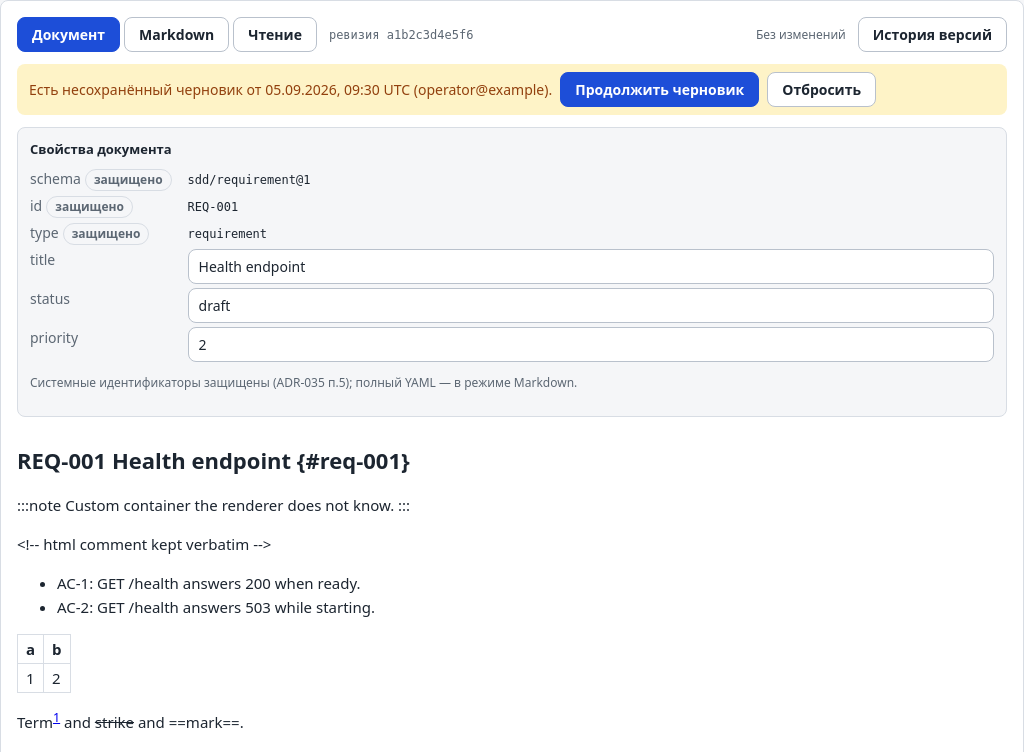
Test case: MarkdownEditor (T090, ADR-035) › offers to continue or discard an existing draft
Expected: the element with test id "editor-draft-banner" shows "Есть несохранённый черновик", [29,80,265,99]
Step 1. Click the button "Продолжить черновик" → (660, 90), box [560,72,759,107]
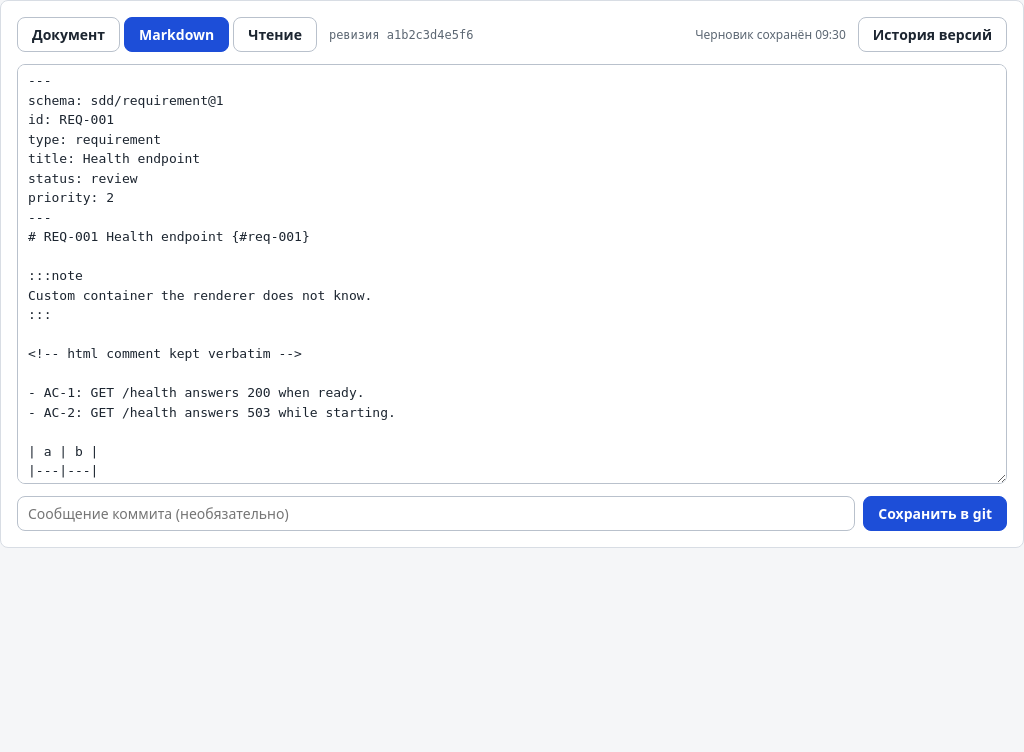
Now the message with test id "editor-save-state" reads "Черновик сохранён 09:30", box [695,26,846,42]
Now the element with test id "editor-draft-banner" is gone
